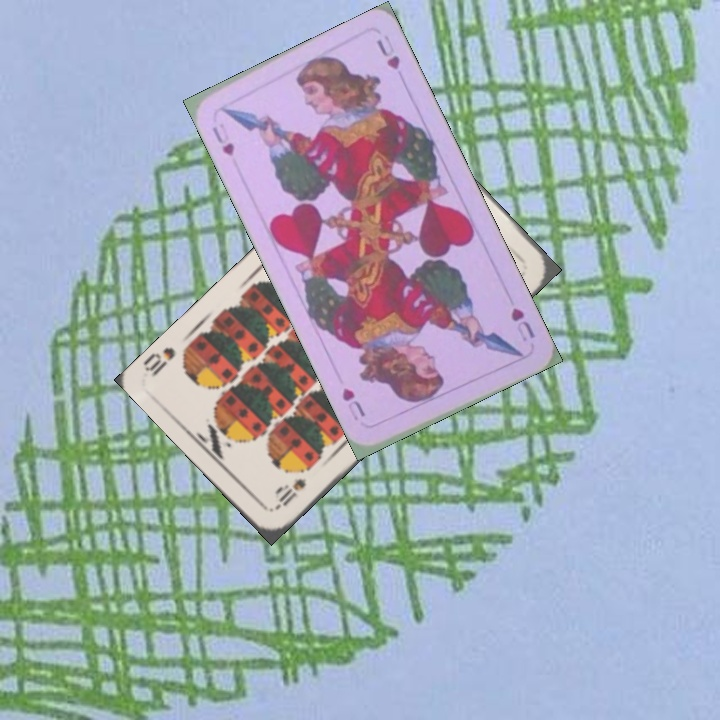HU: (506, 304, 538, 345), (208, 122, 238, 159)
S10: (270, 474, 309, 513)
